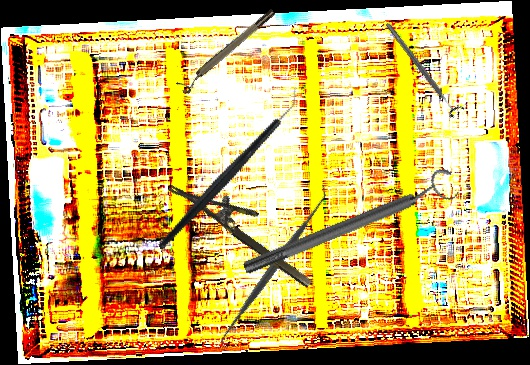Chopper: (122, 85, 335, 251)
Fixation Ring: (237, 164, 462, 285), (175, 7, 281, 96), (380, 18, 465, 120)
Needle Holder: (168, 162, 326, 290)
Spatula Surgical: (209, 183, 339, 350)
